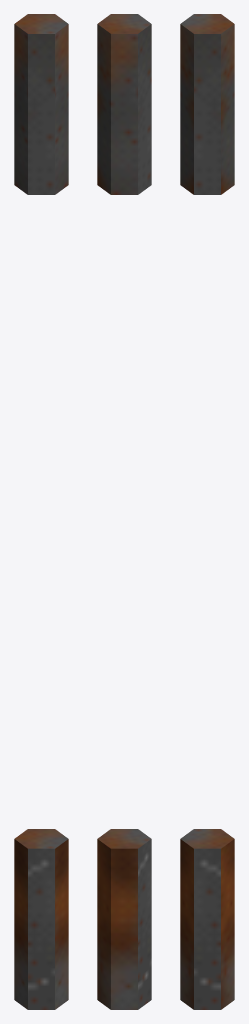
Rendered from Hinge.fbx.
3 renders of one model, left to right at view 1: azimuth 90°, elevation 25°; view 2: azimuth 150°, elevation 25°; view 3: azimuth 270°, elevation 25°, orthographic.
Visible parts, largest first — view 1: Hinge; view 2: Hinge; view 3: Hinge.
Part boxes in pixels (x1,y1,x2,y2): Hinge: (14,14,68,1009); Hinge: (97,14,151,1009); Hinge: (180,14,234,1009).
Bounding box in the file's own units: 0.0705 × 1.62 × 0.0814.
1 material, 1 textured.
